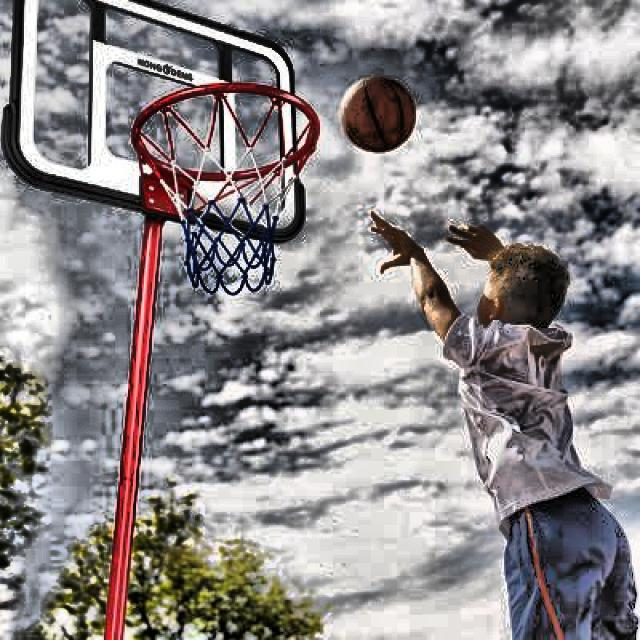board: (340, 74, 417, 153)
rim: (134, 82, 322, 294)
